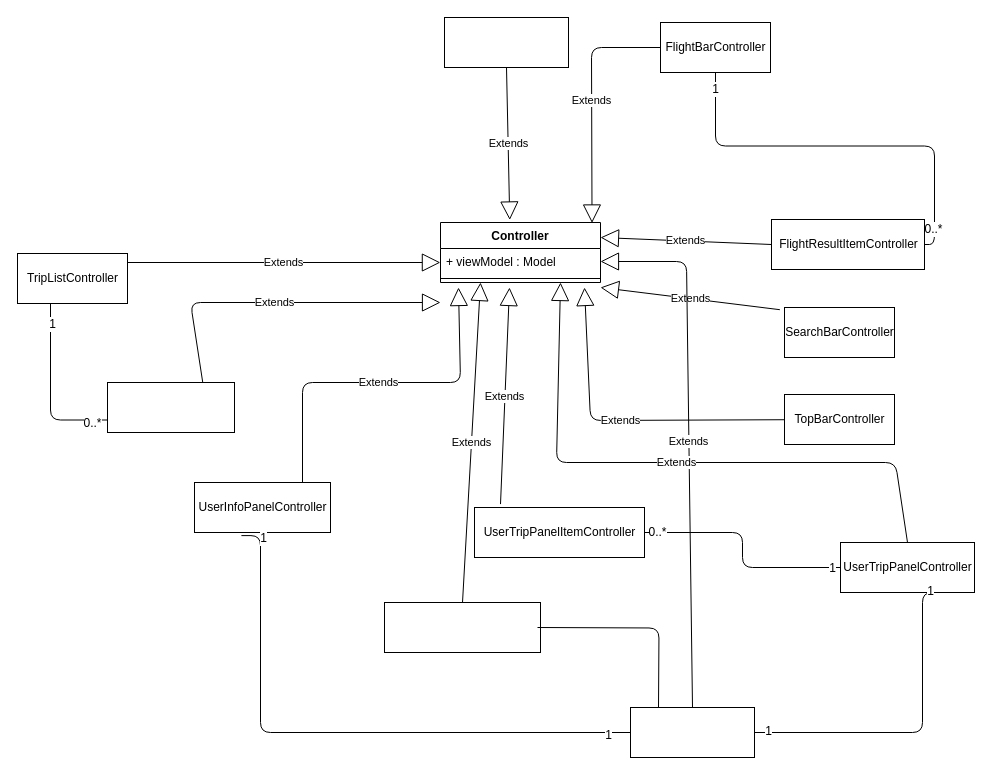
This 992x775 diagram has some shape labels left out. Each missing label, with the centre of its shape:
"TripInfoController" goes at pixel 506 42.
"TripListItemController" goes at pixel 170 407.
"UserPanelController" goes at pixel 692 732.
"UserUpdatePanelController" goes at pixel 462 627.
